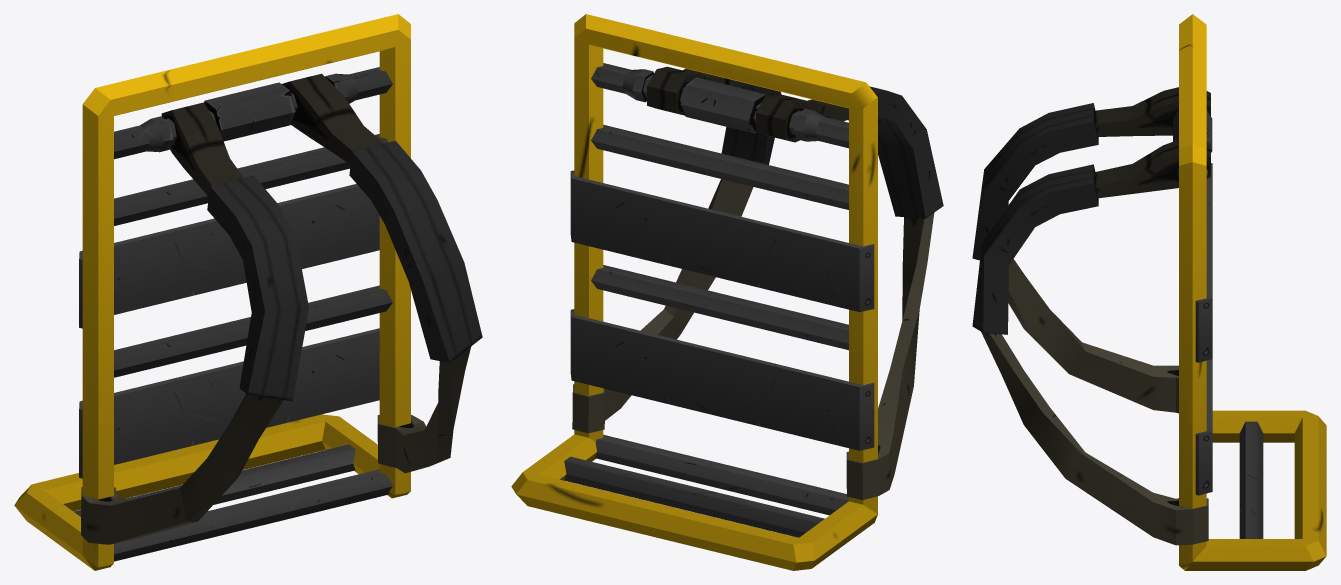
Rendered from mod_gear_bp_frame01.fbx.
3 views of the same model, side by side, from view 1: azimuth 30°, elevation 25°; view 2: azimuth 150°, elevation 25°; view 3: azimuth 270°, elevation 25° (orthographic). The views are drawn at different scales.
Visible parts, largest first — view 1: mod_gear_bp_frame01; view 2: mod_gear_bp_frame01; view 3: mod_gear_bp_frame01.
Part boxes in pixels (box(x1,y1,x2,y2)): mod_gear_bp_frame01: box(14, 14, 482, 570); mod_gear_bp_frame01: box(511, 14, 943, 570); mod_gear_bp_frame01: box(972, 14, 1326, 570).
Bounding box in the file's own units: 45.98 × 62.71 × 47.48.
